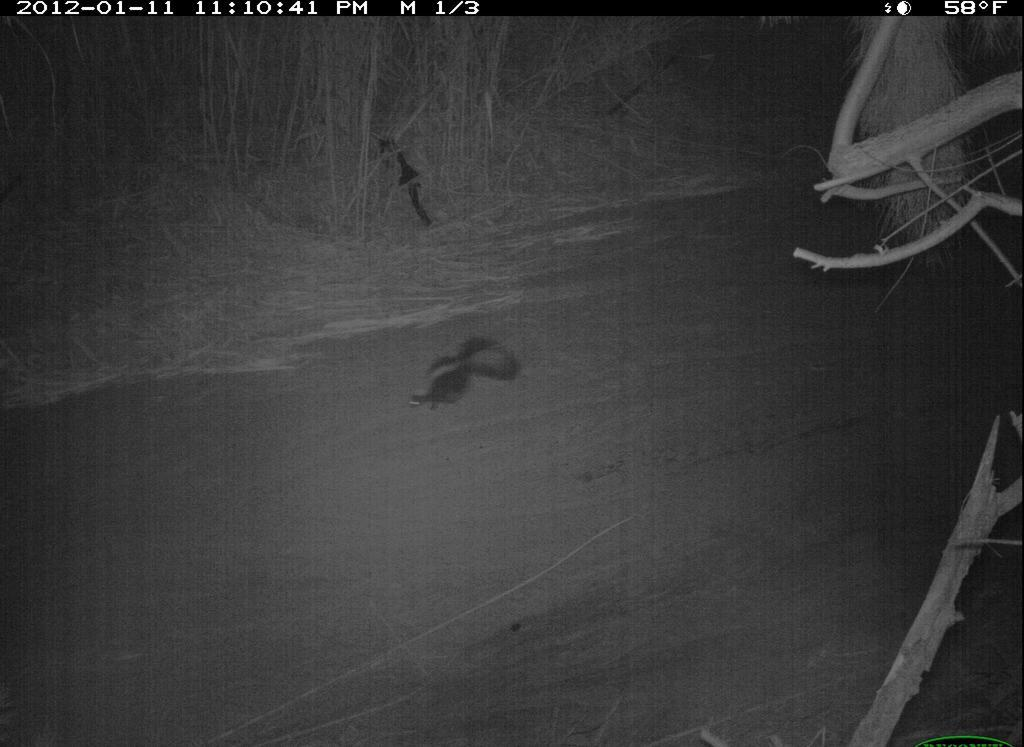skunk: (388, 324, 532, 446)
